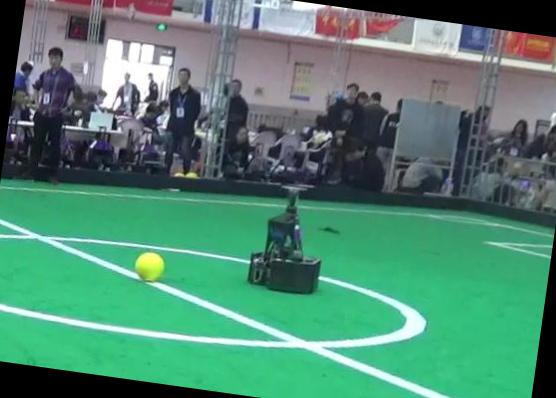ball: (134, 251, 164, 281)
person: (26, 47, 77, 182)
robot: (247, 184, 321, 293)
